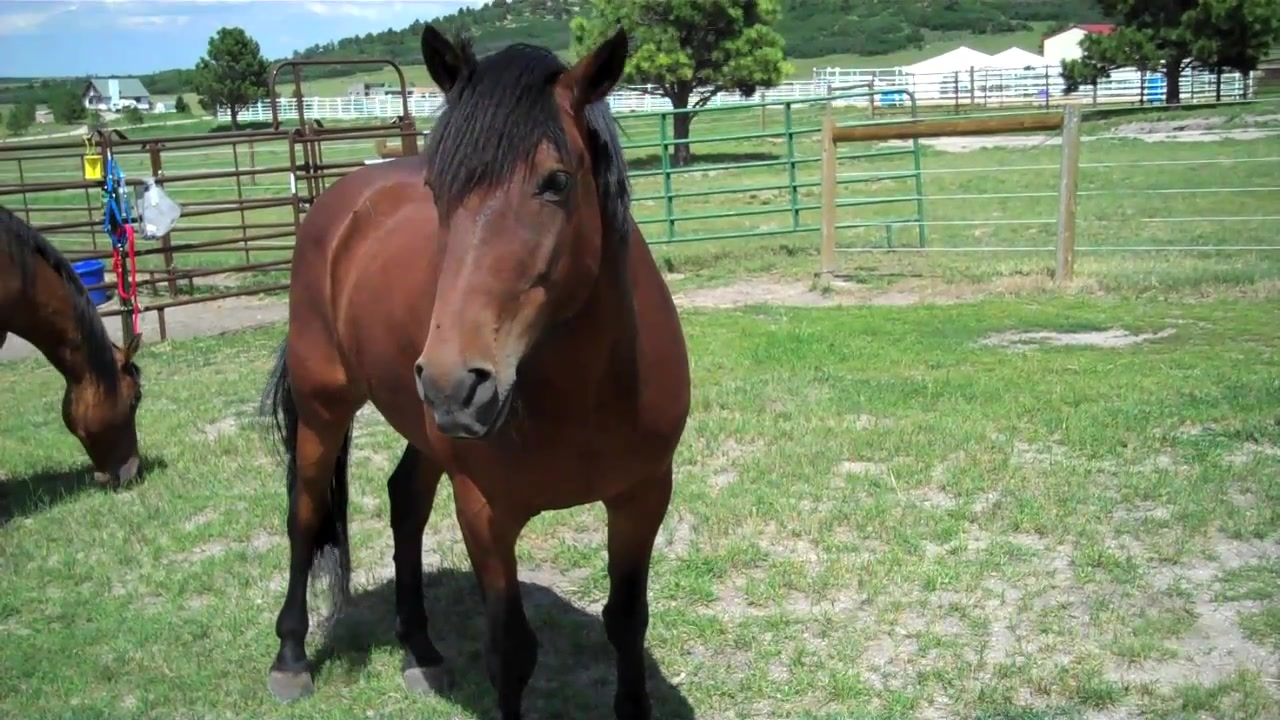horse: (264, 21, 696, 720), (1, 201, 148, 492)
